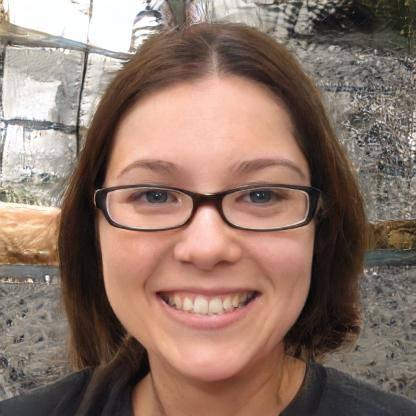glasses: (89, 178, 319, 236)
